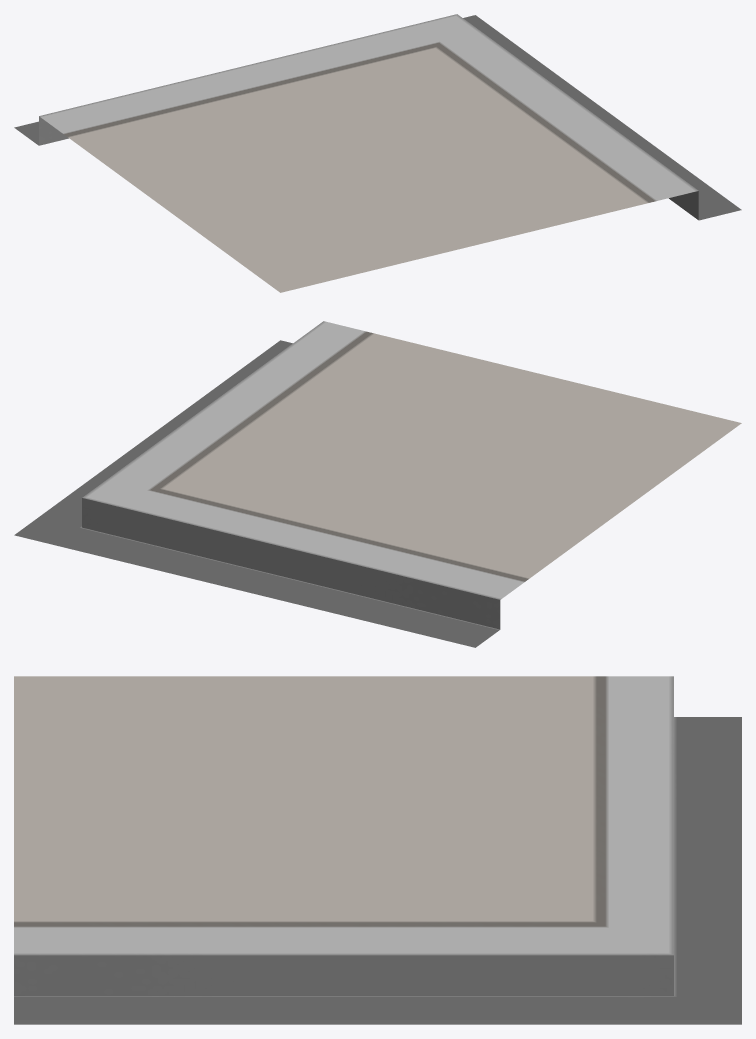
The model's file is road_corner_only_mesh.fbx.
3 views of the same model, one above another, from view 1: azimuth 30°, elevation 25°; view 2: azimuth 150°, elevation 25°; view 3: azimuth 270°, elevation 25° (orthographic). The views are drawn at different scales.
Parts seen in each view (by area): view 1: road_corner_mesh; view 2: road_corner_mesh; view 3: road_corner_mesh.
Part boxes in pixels (bbox=[...]): road_corner_mesh: bbox=[14, 14, 741, 292]; road_corner_mesh: bbox=[14, 321, 741, 647]; road_corner_mesh: bbox=[14, 676, 741, 1024].
Size of the model in its own units: 3.17 by 0.1948 by 3.17.
Materials: 1 (1 with a texture image).
